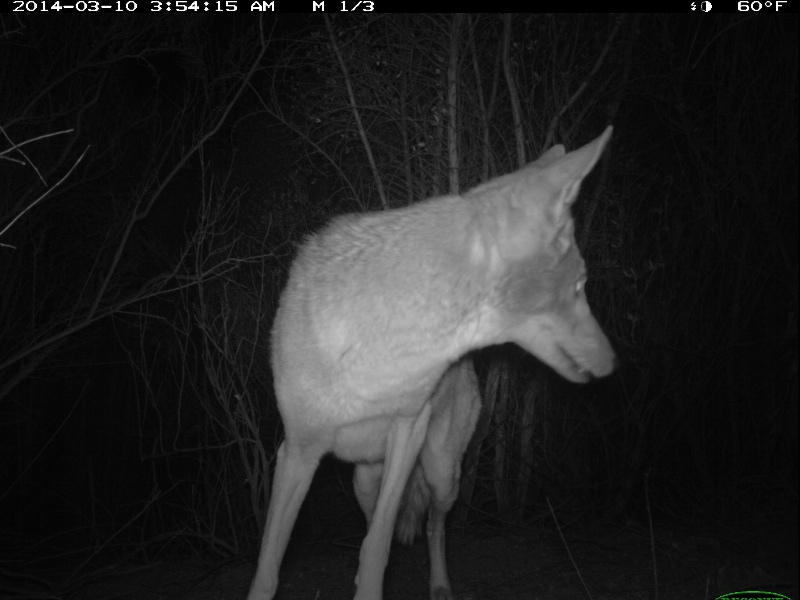coyote: (238, 113, 625, 600)
